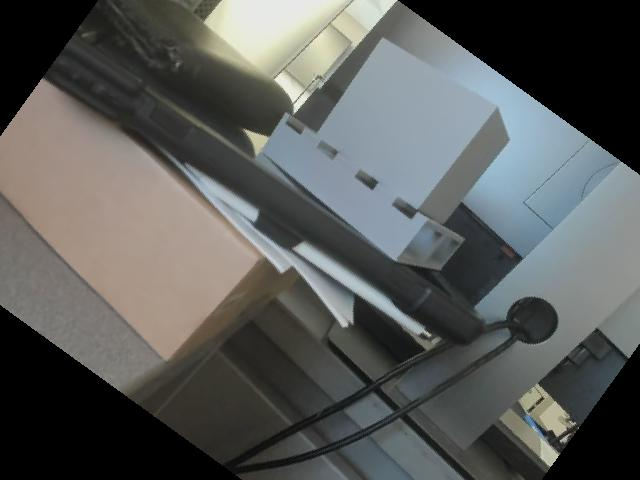grey pallet: (248, 33, 528, 277)
